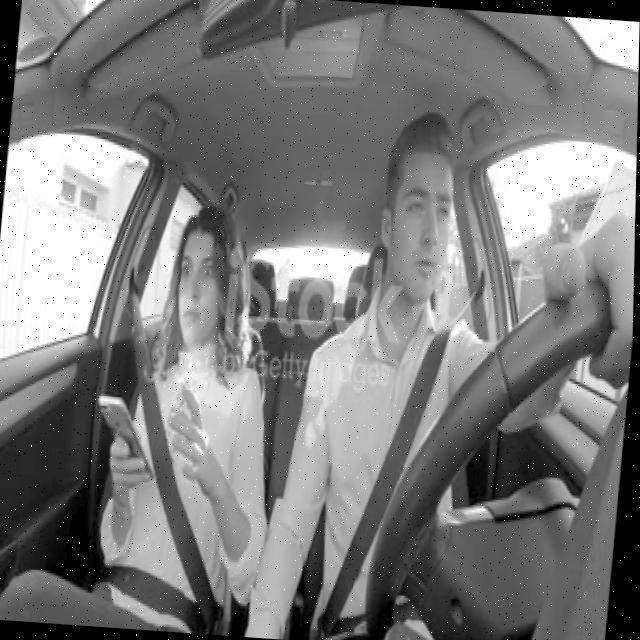PhoneCall: (91, 393, 168, 485)
